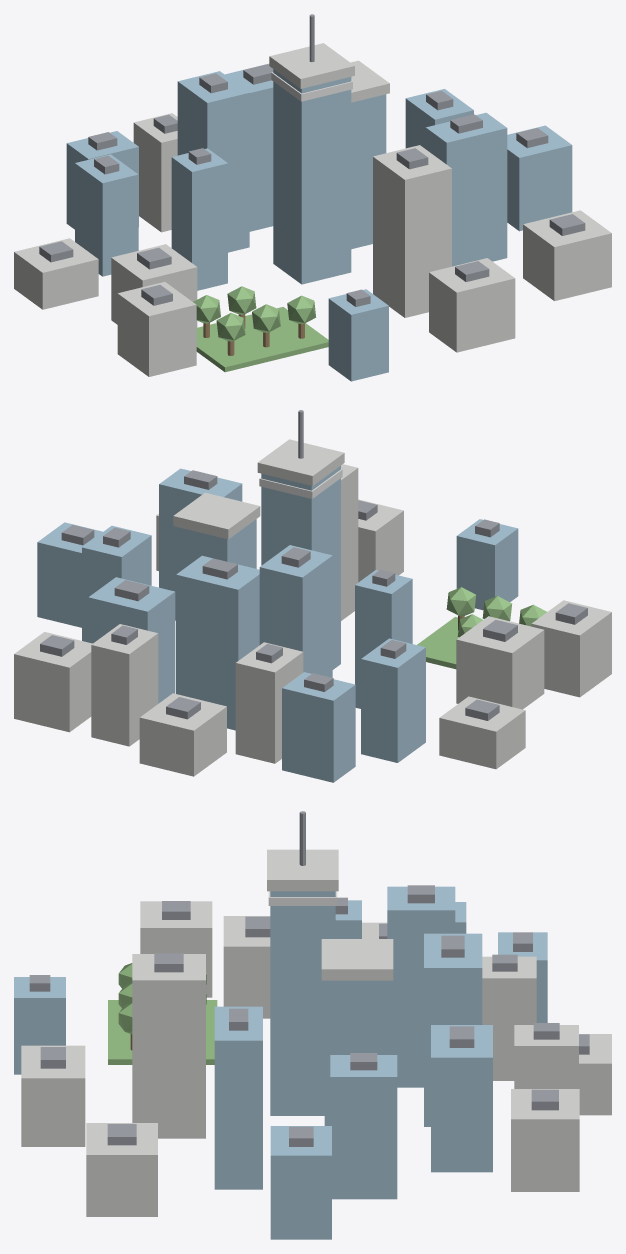
Rendered from civ_city_modern_city.glb.
3 views of the same model, one above another, from view 1: azimuth 30°, elevation 25°; view 2: azimuth 150°, elevation 25°; view 3: azimuth 270°, elevation 25° (orthographic). The views are drawn at different scales.
Visible parts, largest first — view 1: civ_city_modern_city; view 2: civ_city_modern_city; view 3: civ_city_modern_city.
Boxes of the visible parts, box(x1,y1,x2,y2) form: civ_city_modern_city: box(14, 14, 611, 381); civ_city_modern_city: box(14, 410, 611, 782); civ_city_modern_city: box(14, 811, 611, 1239).
Size of the model in its own units: 4.17 by 2.05 by 3.84.
